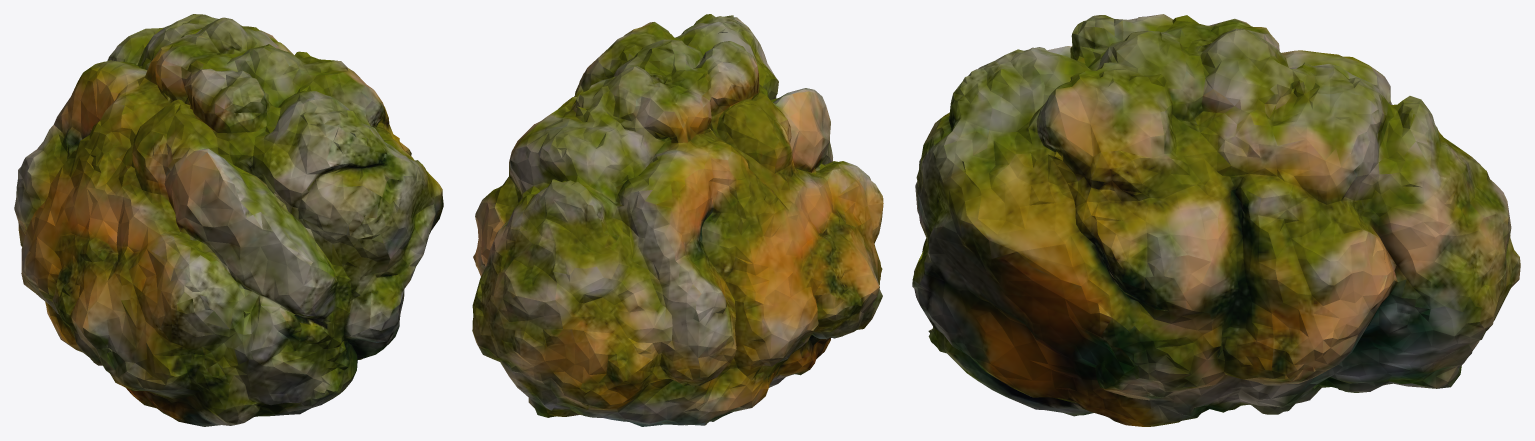
File: env_rock_01.glb
3 views of the same model, side by side, from view 1: azimuth 30°, elevation 25°; view 2: azimuth 150°, elevation 25°; view 3: azimuth 270°, elevation 25° (orthographic). The views are drawn at different scales.
Parts seen in each view (by area): view 1: aa7bda6d-f05d-4368-9dc4-b211713f753e_texturing.obj; view 2: aa7bda6d-f05d-4368-9dc4-b211713f753e_texturing.obj; view 3: aa7bda6d-f05d-4368-9dc4-b211713f753e_texturing.obj.
Boxes of the visible parts, x1,y1,x2,y2 form: aa7bda6d-f05d-4368-9dc4-b211713f753e_texturing.obj: [14, 14, 443, 426]; aa7bda6d-f05d-4368-9dc4-b211713f753e_texturing.obj: [472, 14, 883, 426]; aa7bda6d-f05d-4368-9dc4-b211713f753e_texturing.obj: [912, 14, 1520, 426].
Bounding box in the file's own units: 1.49 × 1.44 × 1.99.
Materials: 1 (1 with a texture image).
